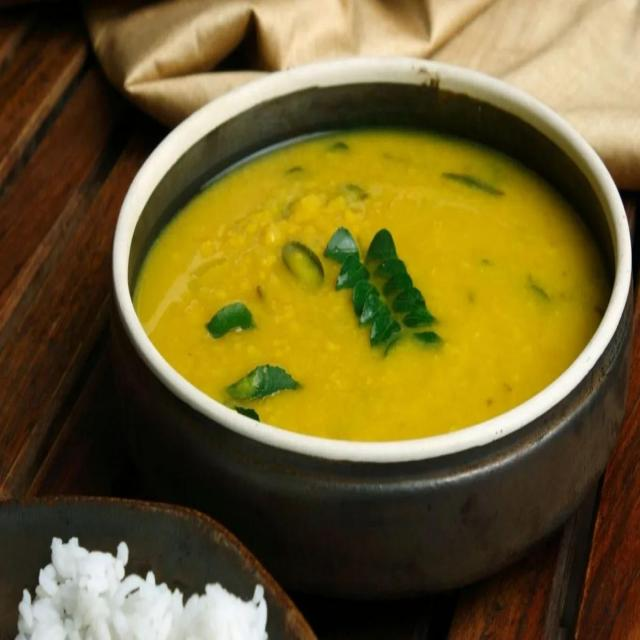dal: (135, 126, 607, 440)
rice: (10, 538, 275, 640)
